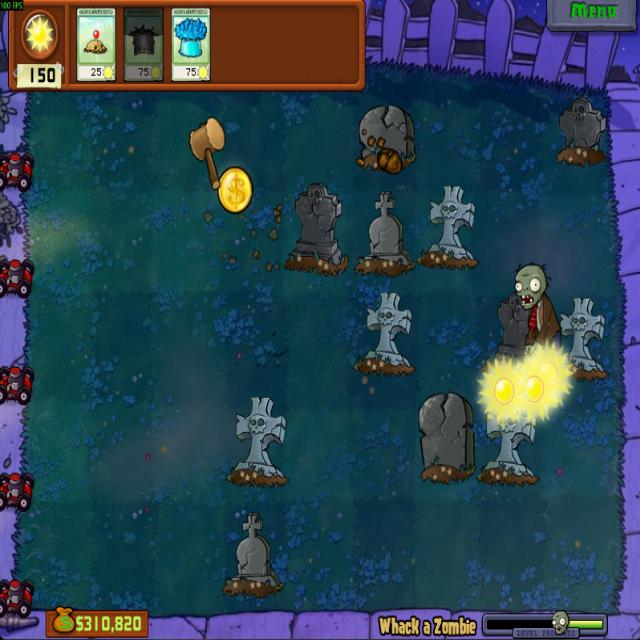grave: (283, 182, 348, 274), (227, 393, 289, 488), (219, 512, 284, 596), (416, 394, 474, 483), (417, 185, 477, 270), (358, 291, 416, 378), (353, 188, 413, 272), (480, 401, 537, 484), (556, 296, 608, 379), (356, 104, 418, 171), (492, 294, 539, 380), (553, 96, 609, 164)
zombie: (512, 260, 548, 308)
